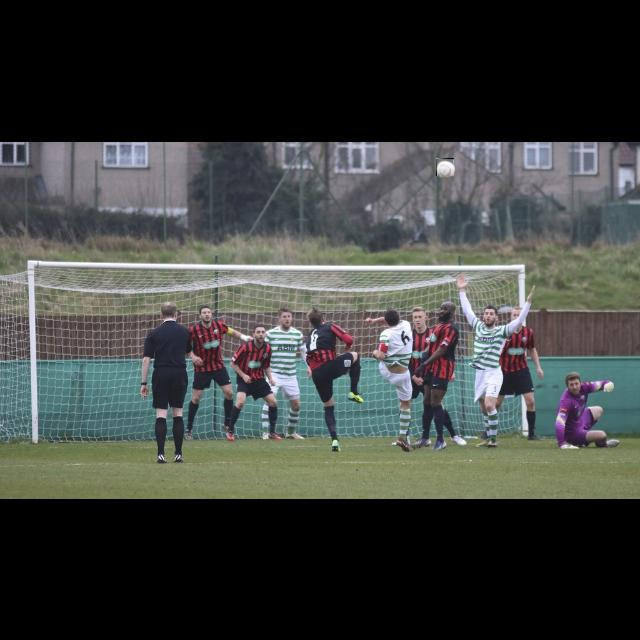Football: (436, 158, 454, 176)
